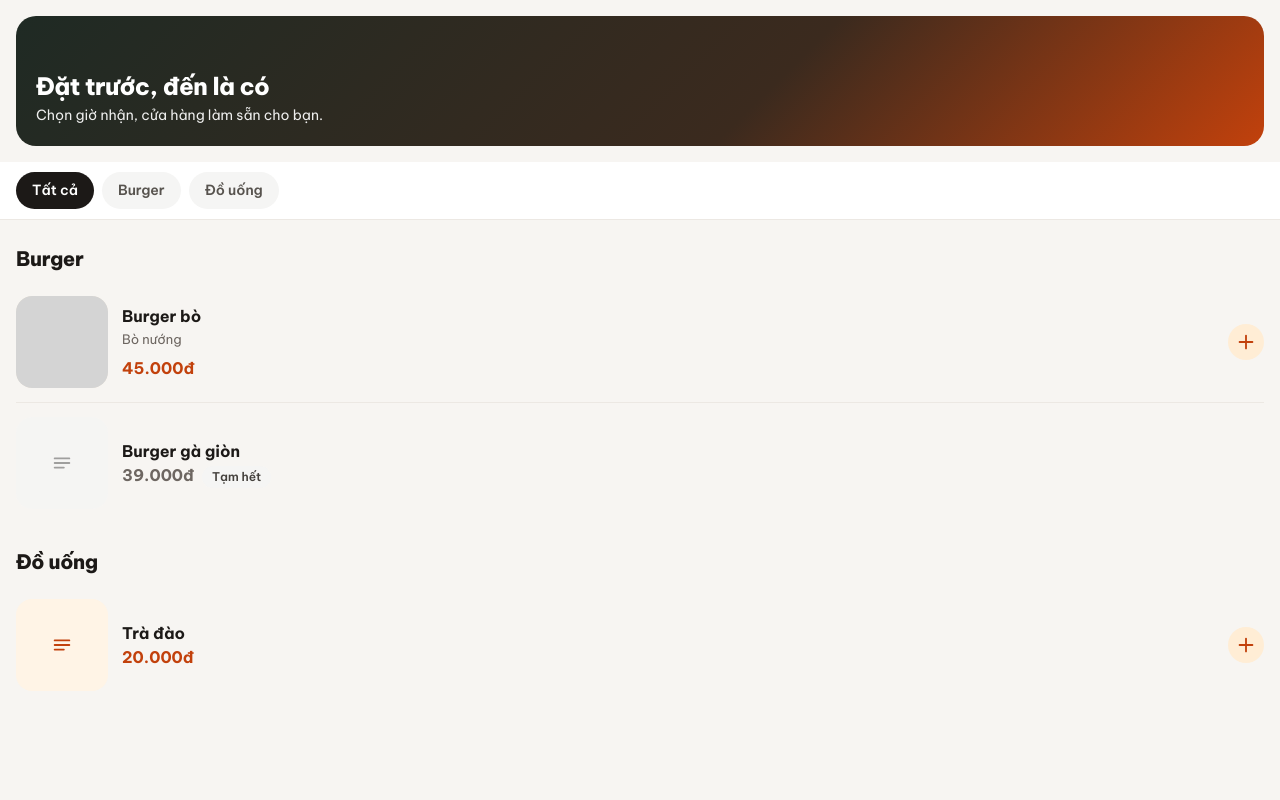
Test case: MenuPage › lọc theo nhóm món (UC-03 bước 3)
This screenshot has width=1280, height=800.
Check: the text "Burger bò" is shown, box [122, 306, 201, 326]
Click the button "Đồ uống".
click(234, 190)  # box [189, 172, 279, 209]
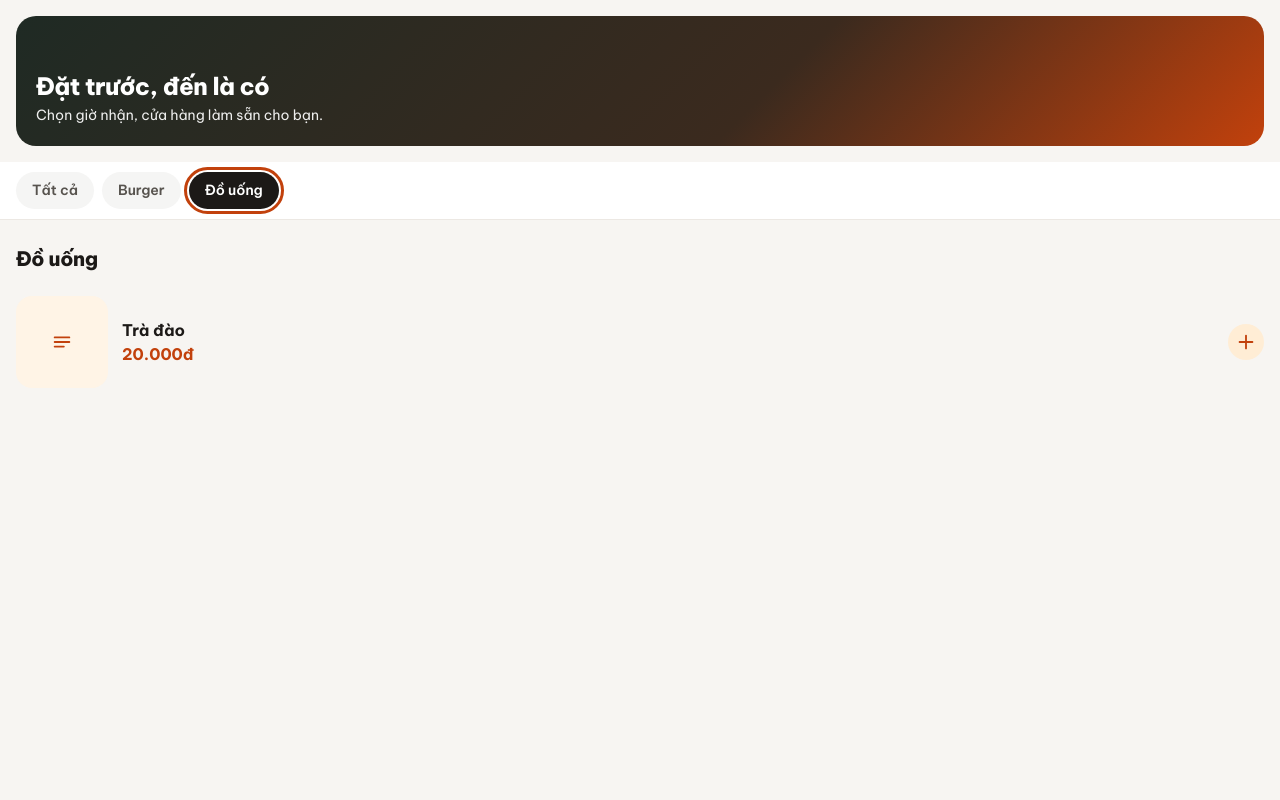
Check: the text "Trà đào" is shown, box [122, 320, 185, 340]
Check: the text "Burger bò" is gone
Click the button "Tất cả".
click(55, 190)  # box [16, 172, 94, 209]
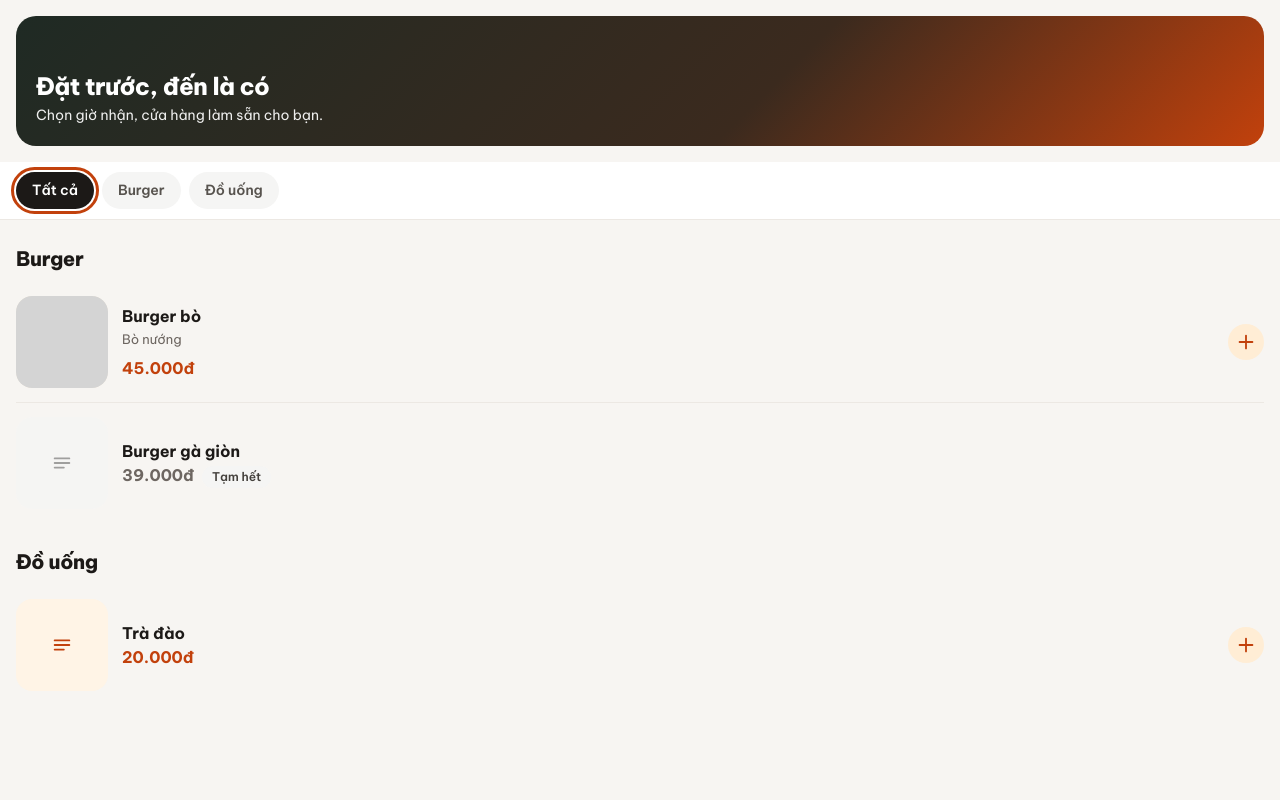
Check: the text "Burger bò" is shown, box [122, 306, 201, 326]
